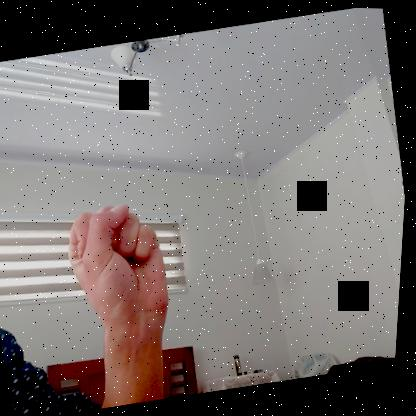S: (58, 195, 182, 327)
